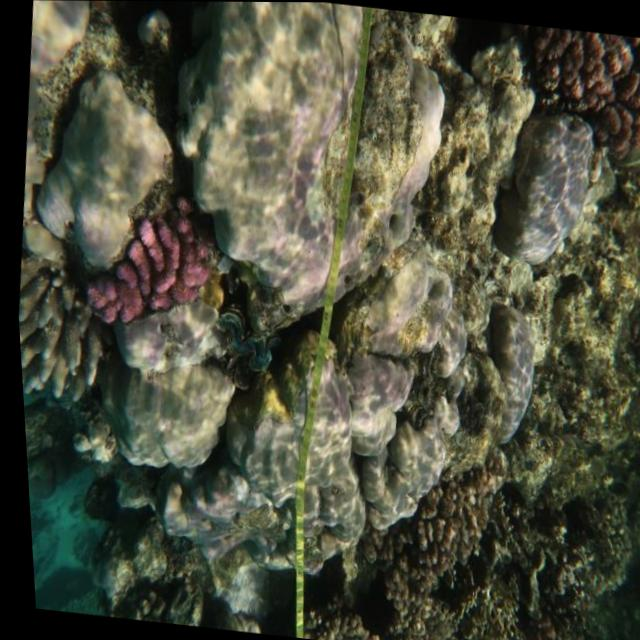Healthy Coral: (72, 185, 223, 343)
